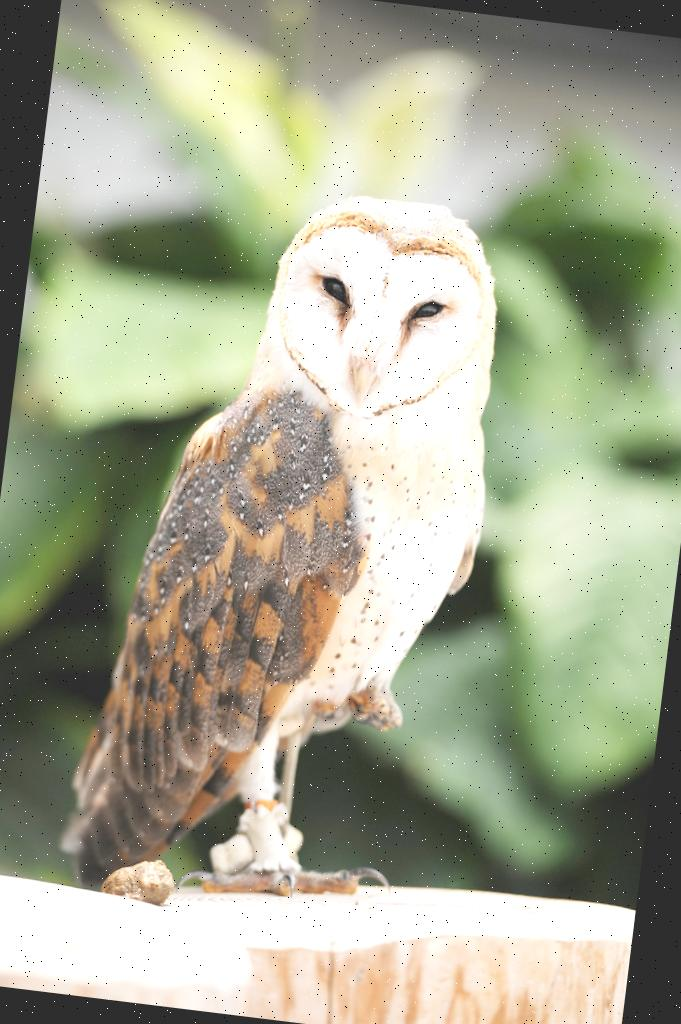Owl: (56, 168, 520, 916)
